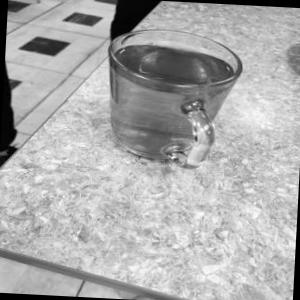tea: (87, 9, 254, 192)
